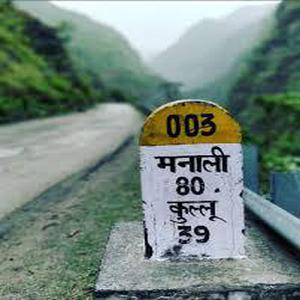kmstone: (134, 98, 259, 264)
